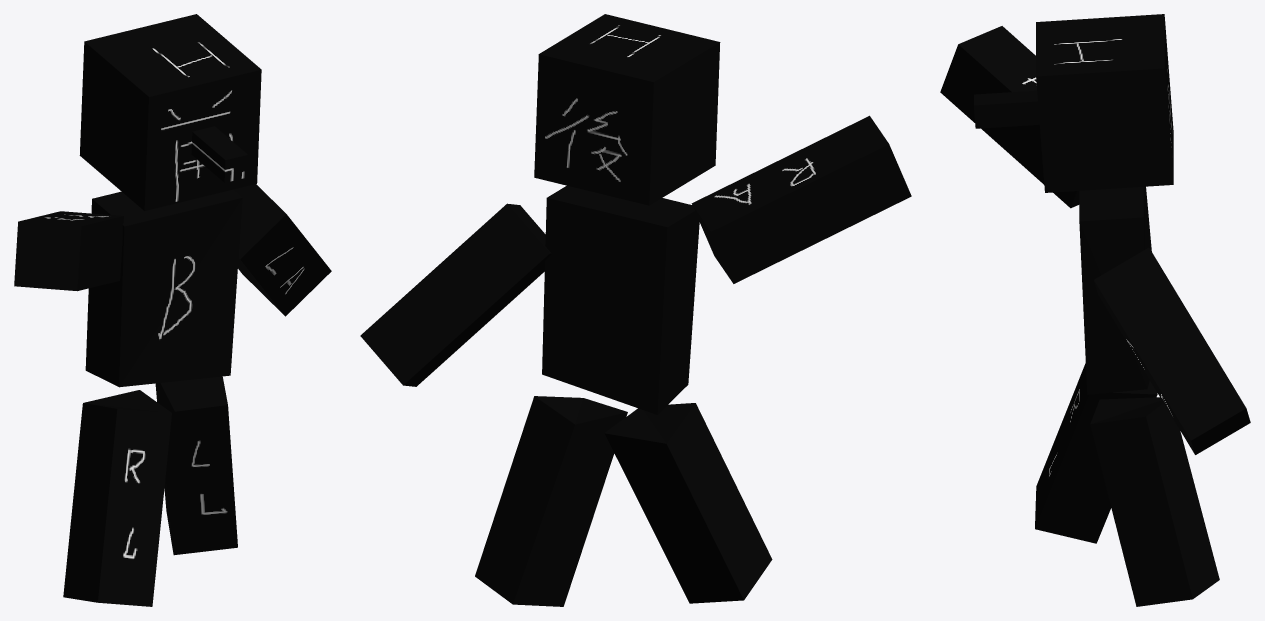
Rendered from human2.obj.
The picture shows the model from 3 angles, left to right: view 1: azimuth 30°, elevation 25°; view 2: azimuth 150°, elevation 25°; view 3: azimuth 270°, elevation 25°; orthographic projection. The views are drawn at different scales.
Parts seen in each view (by area): view 1: head_立方体.003; view 2: head_立方体.003; view 3: head_立方体.003.
Boxes of the visible parts, bbox=[...] form: head_立方体.003: bbox=[14, 14, 331, 606]; head_立方体.003: bbox=[360, 14, 911, 606]; head_立方体.003: bbox=[940, 14, 1250, 606].
Bounding box in the file's own units: 1.5 × 1.82 × 0.9645.
Materials: 1 (1 with a texture image).
